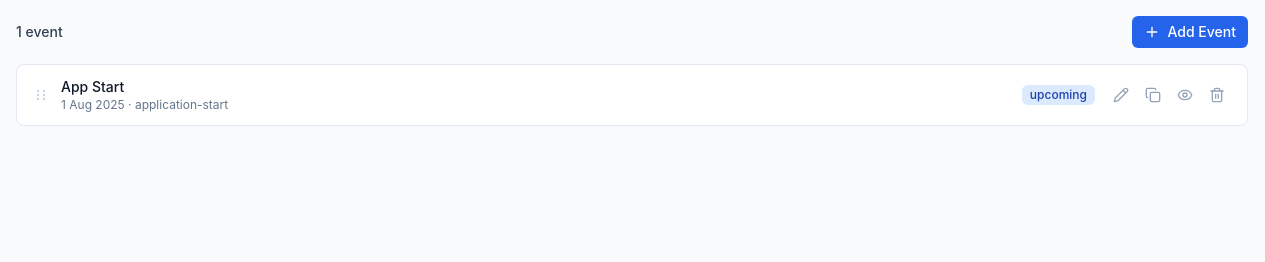
it: preview › clicking Preview shows inline preview panel
The image size is (1265, 262).
Expected: the heading "1 event" is shown, [16,22,63,42]
Click the button named "preview timeline event": (1185, 95) [1171,81,1199,109]
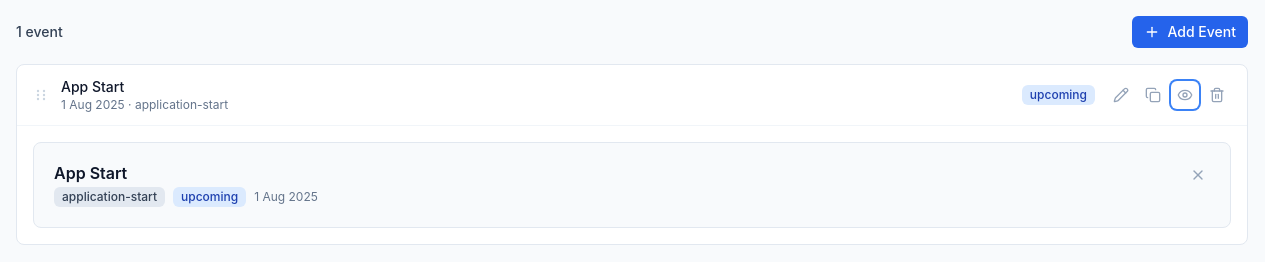
Result: the button named "close preview" is shown at [1186,163,1210,187]
